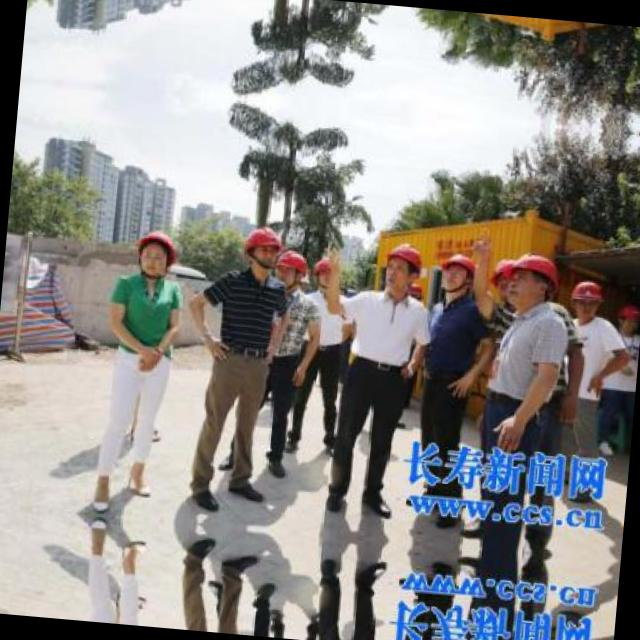helmet: (501, 244, 563, 310), (129, 222, 184, 278), (379, 240, 422, 297), (433, 249, 478, 300), (239, 223, 281, 273), (490, 251, 522, 304), (568, 278, 608, 320), (274, 247, 306, 288), (312, 247, 340, 292), (611, 295, 640, 333)
